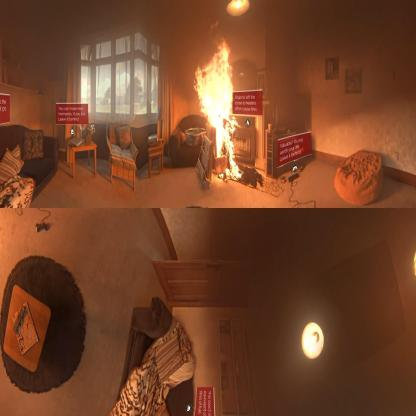fire: (195, 30, 242, 180)
